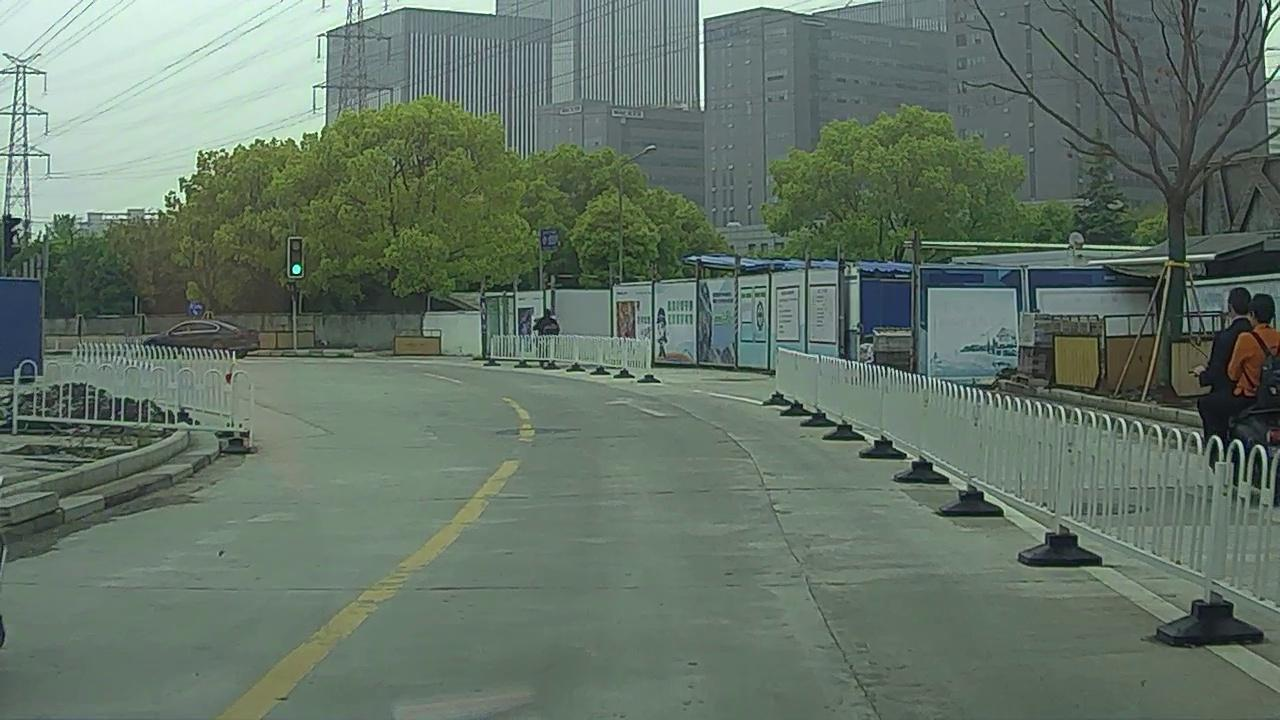traffic_light: (289, 238, 303, 275)
